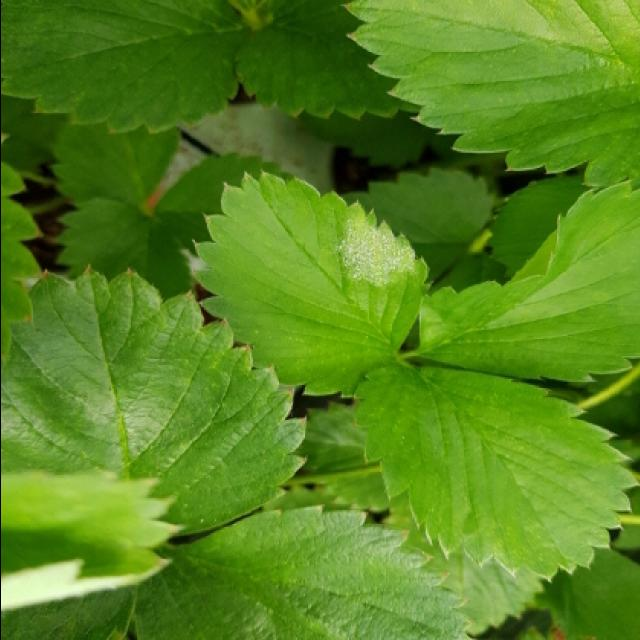Powdery Mildew Leaf: (191, 170, 431, 397)
